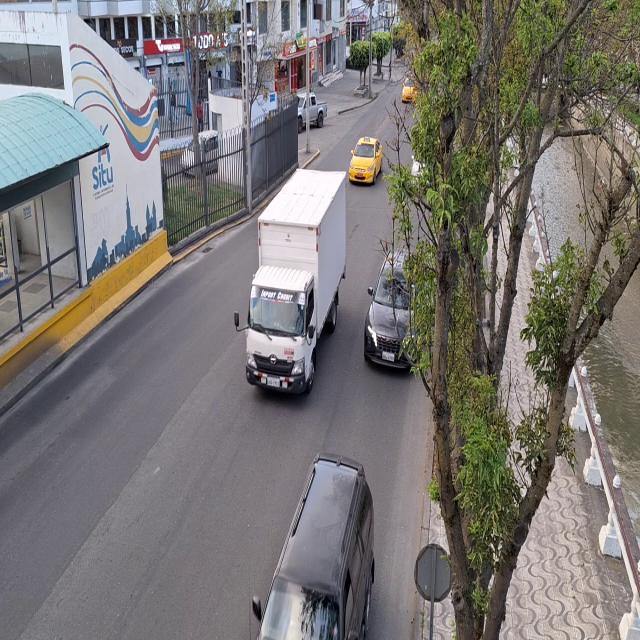SED: (349, 135, 384, 187)
TRUCK: (246, 170, 346, 399)
